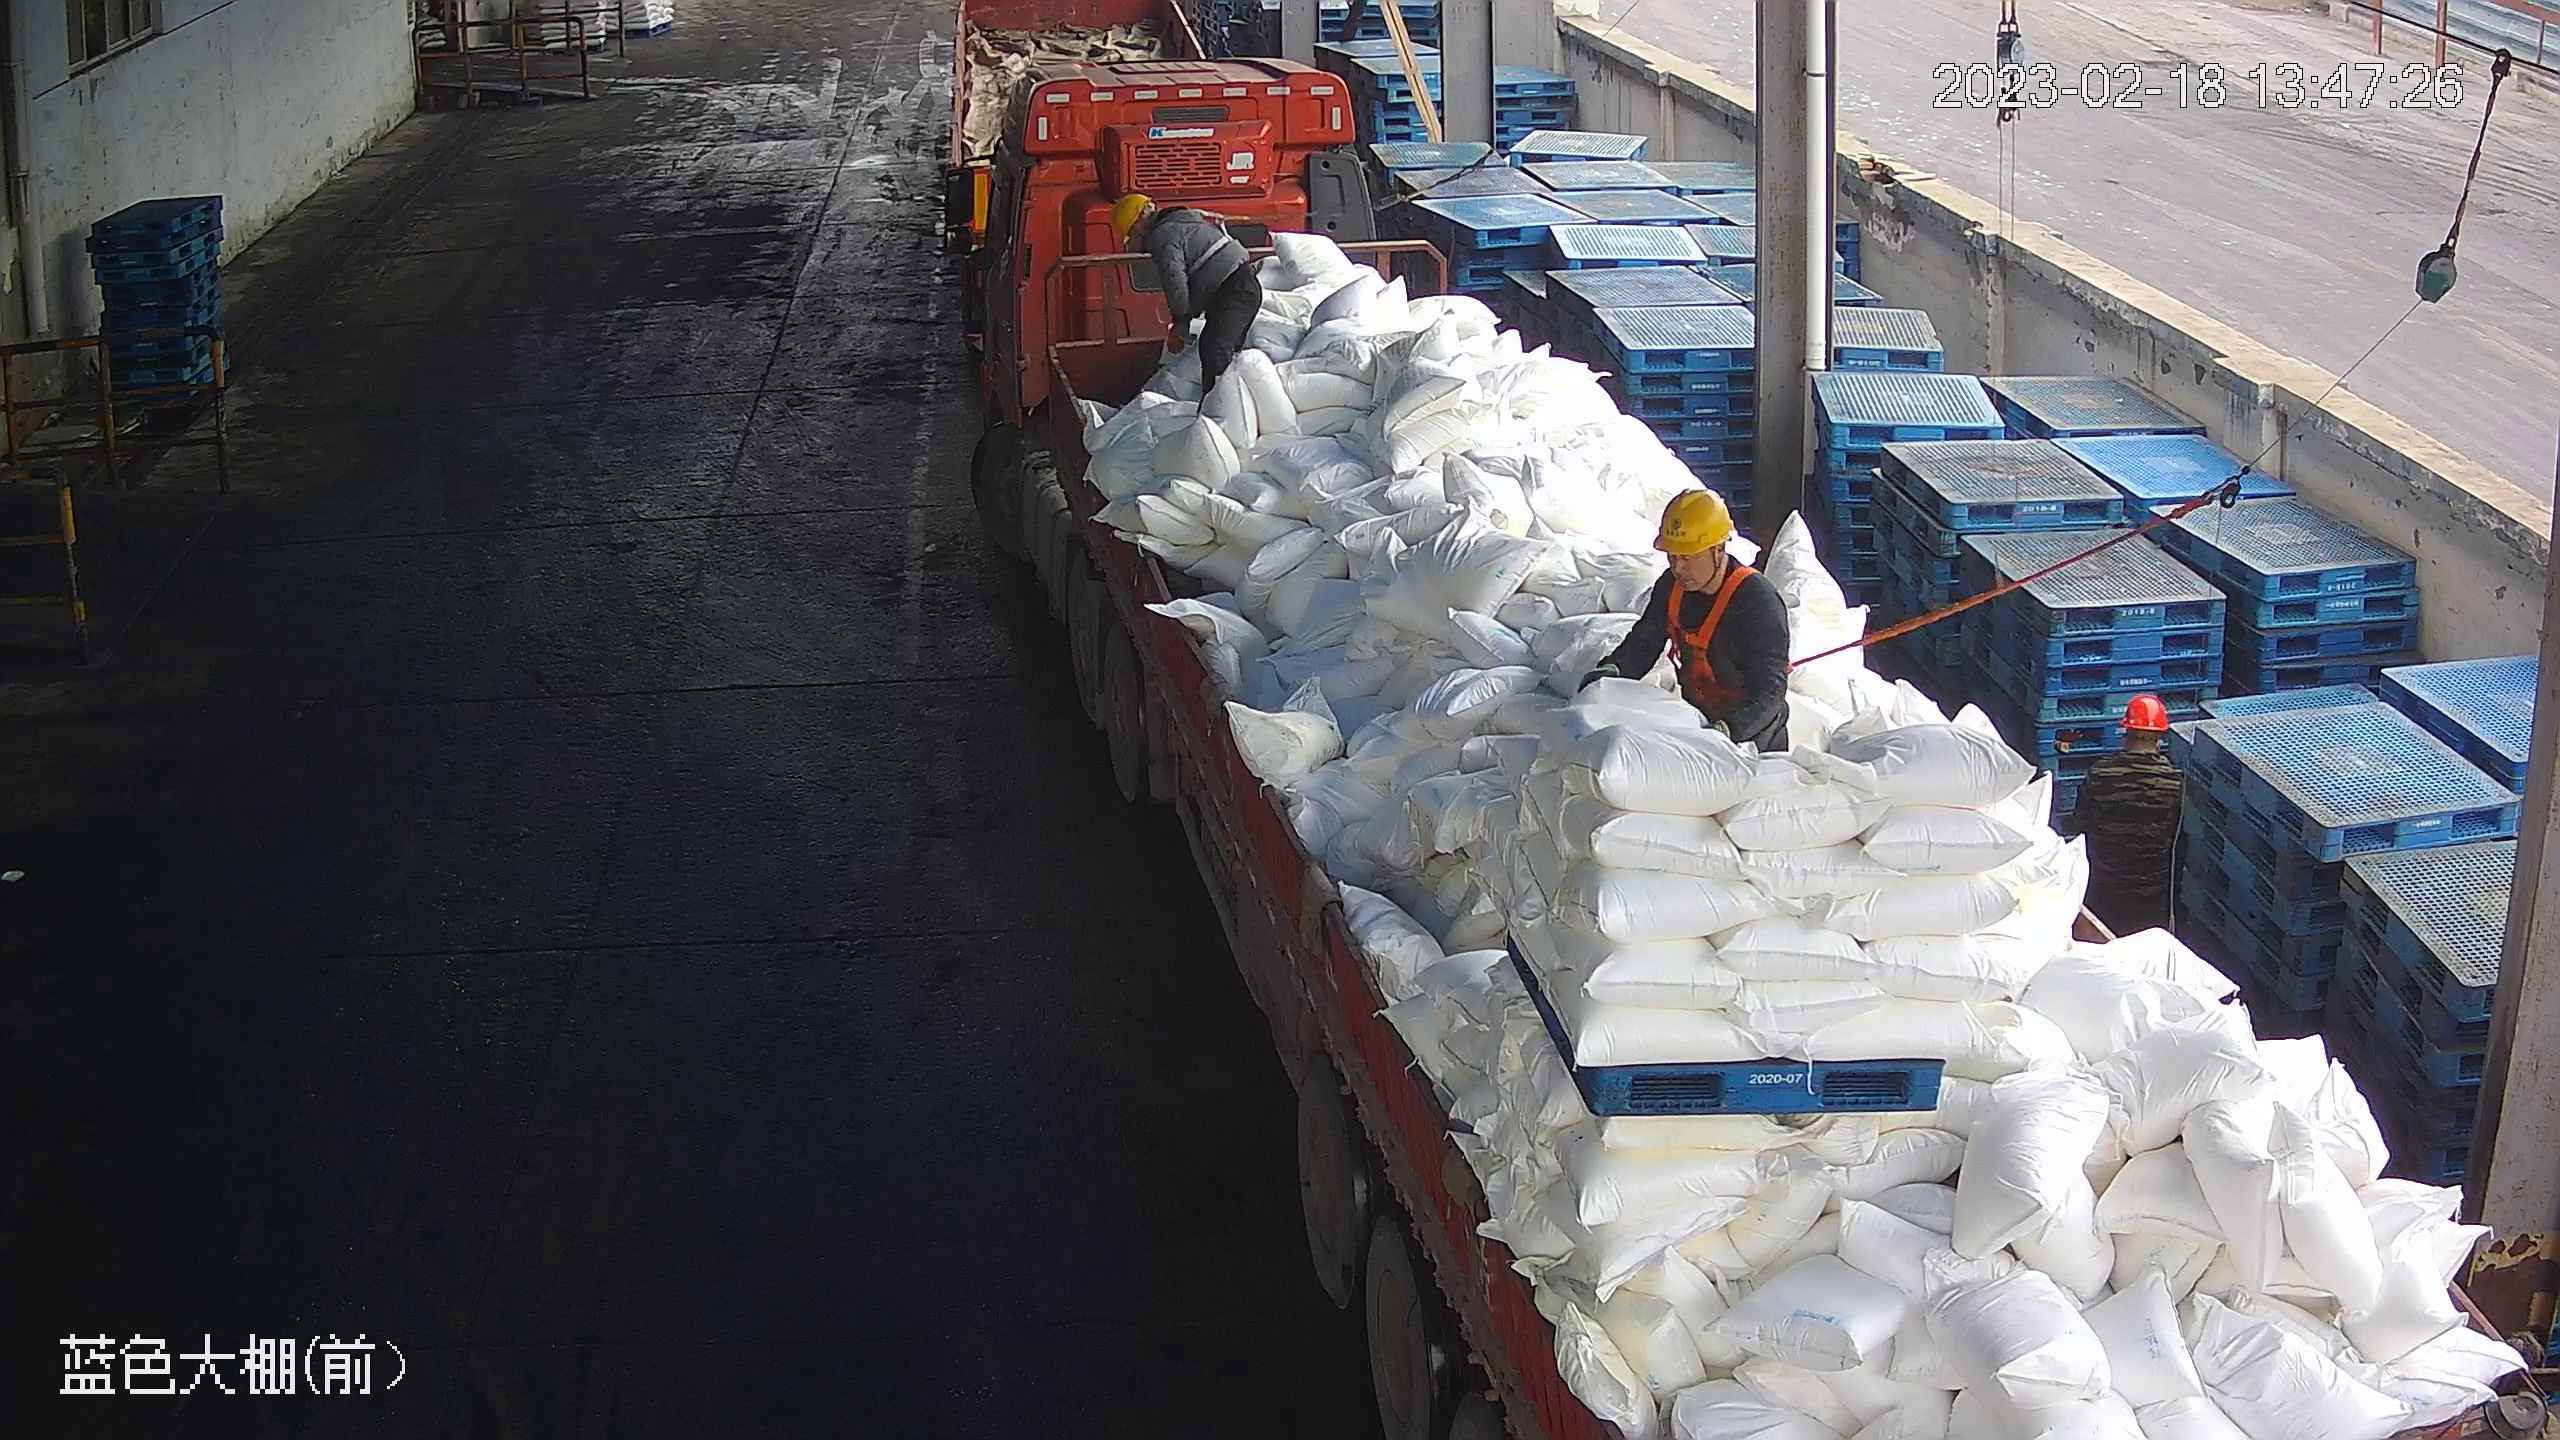belt: (1651, 564, 1766, 696), (1165, 200, 1240, 267), (2113, 740, 2169, 789)
head: (1646, 486, 1786, 638), (2084, 687, 2184, 794), (1109, 189, 1204, 268)
helmet: (1650, 487, 1735, 554), (2117, 688, 2173, 732), (1109, 190, 1152, 237)
people: (1578, 483, 1793, 754), (1107, 188, 1267, 404), (2063, 687, 2187, 949)
truck: (963, 121, 2552, 1440)
